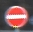No entry: (5, 5, 28, 27)
